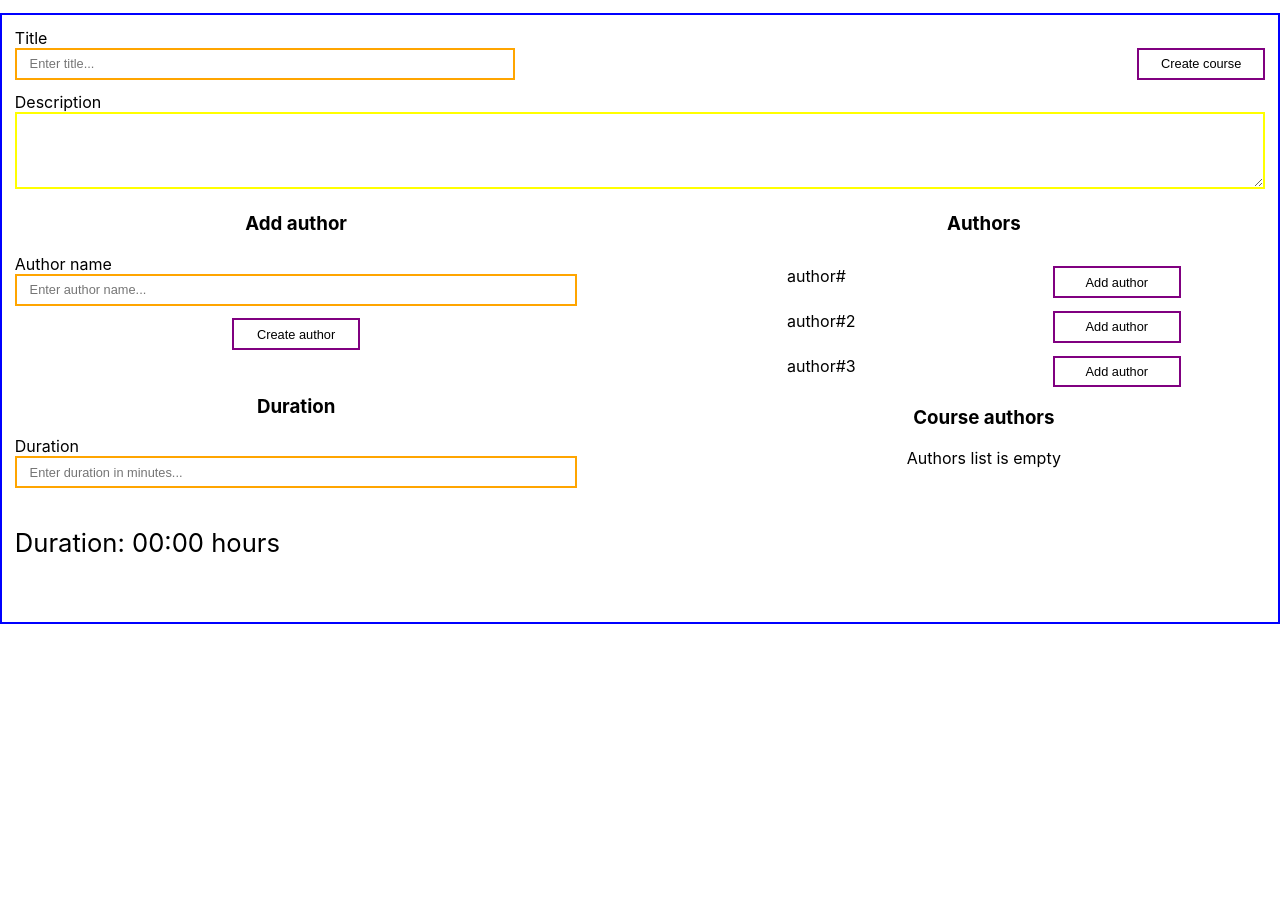
Should check if the author is correctly adding to the course by pressing a button
The image size is (1280, 900).
Click the 1st button "Add author" at (1117, 282), box [1053, 266, 1181, 298]
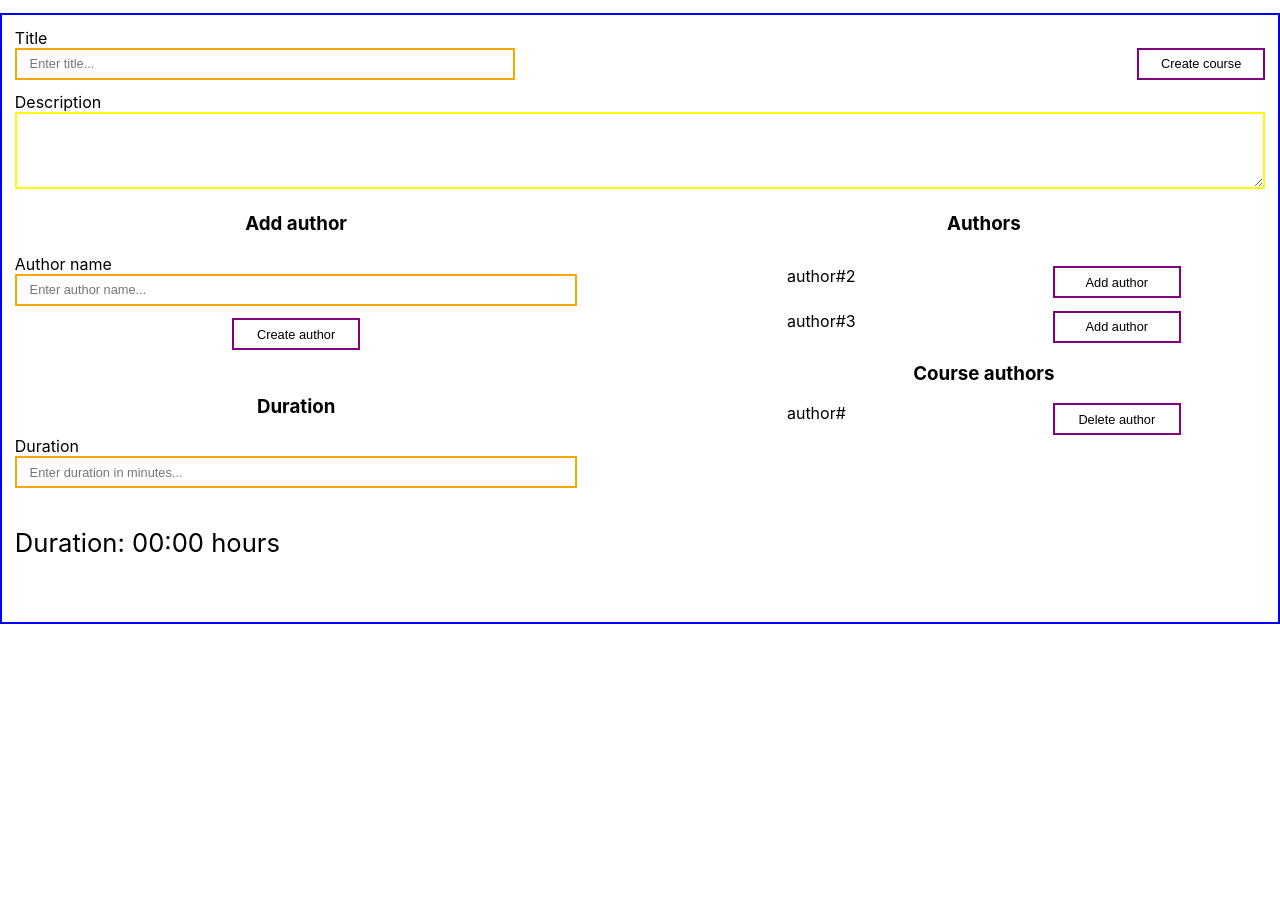
Now the button "Delete author" is shown, box [1053, 403, 1181, 435]
